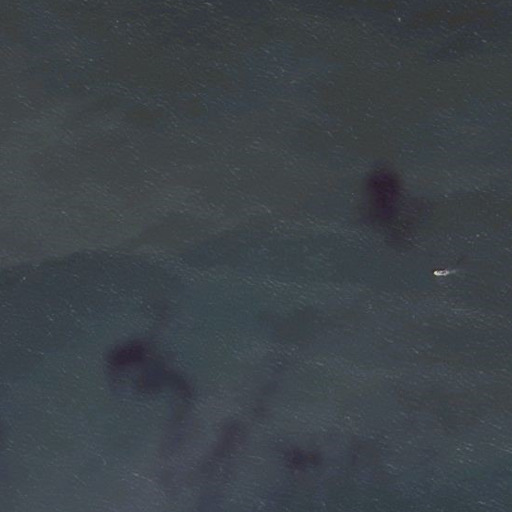ship: (431, 267, 455, 279)
